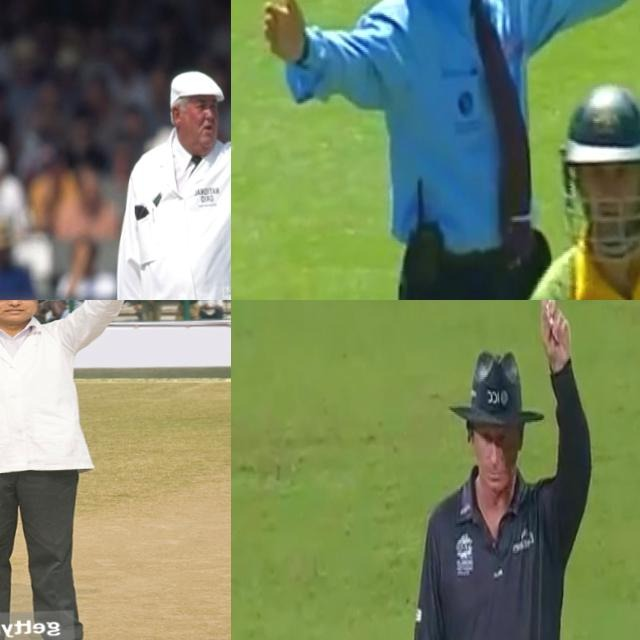Out: (394, 300, 604, 640), (102, 36, 231, 300)
Six: (0, 300, 169, 640)
Wide: (245, 0, 640, 178)
